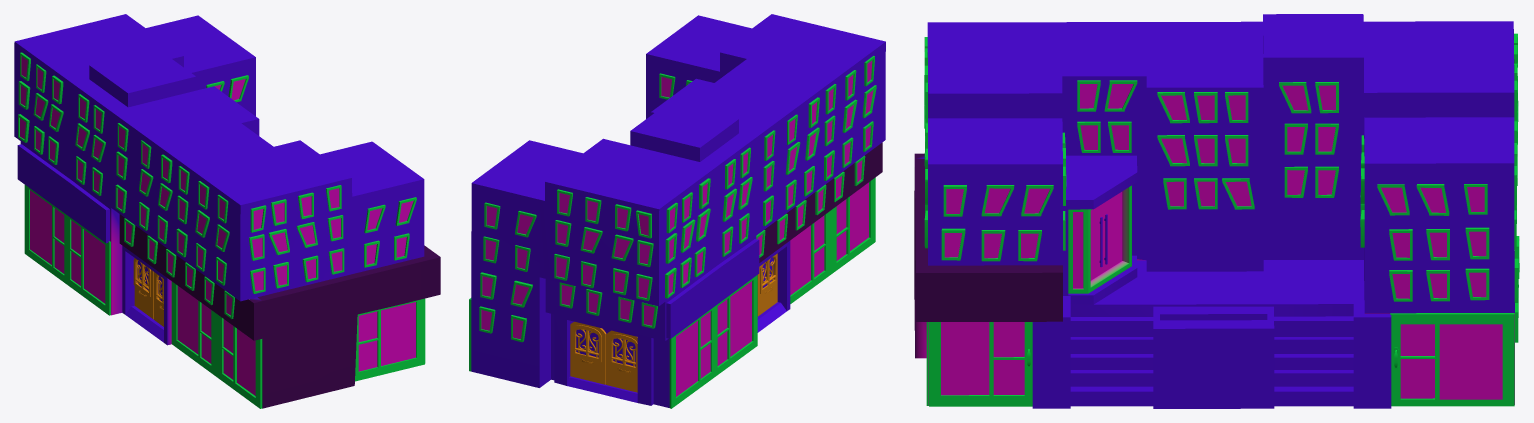
File: Bat_Joliette_5.fbx
3 renders of one model, left to right at view 1: azimuth 30°, elevation 25°; view 2: azimuth 150°, elevation 25°; view 3: azimuth 270°, elevation 25°, orthographic. The views are drawn at different scales.
Visible parts, largest first — view 1: Bat_Joliette_5; view 2: Bat_Joliette_5; view 3: Bat_Joliette_5.
Part boxes in pixels (x1,y1,x2,y2): Bat_Joliette_5: [14, 14, 440, 408]; Bat_Joliette_5: [469, 14, 885, 408]; Bat_Joliette_5: [914, 14, 1519, 408].
Size of the model in its own units: 1121 by 1161 by 2233.
